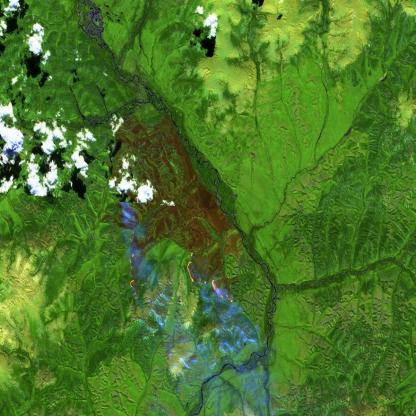fire: (128, 247, 235, 306)
